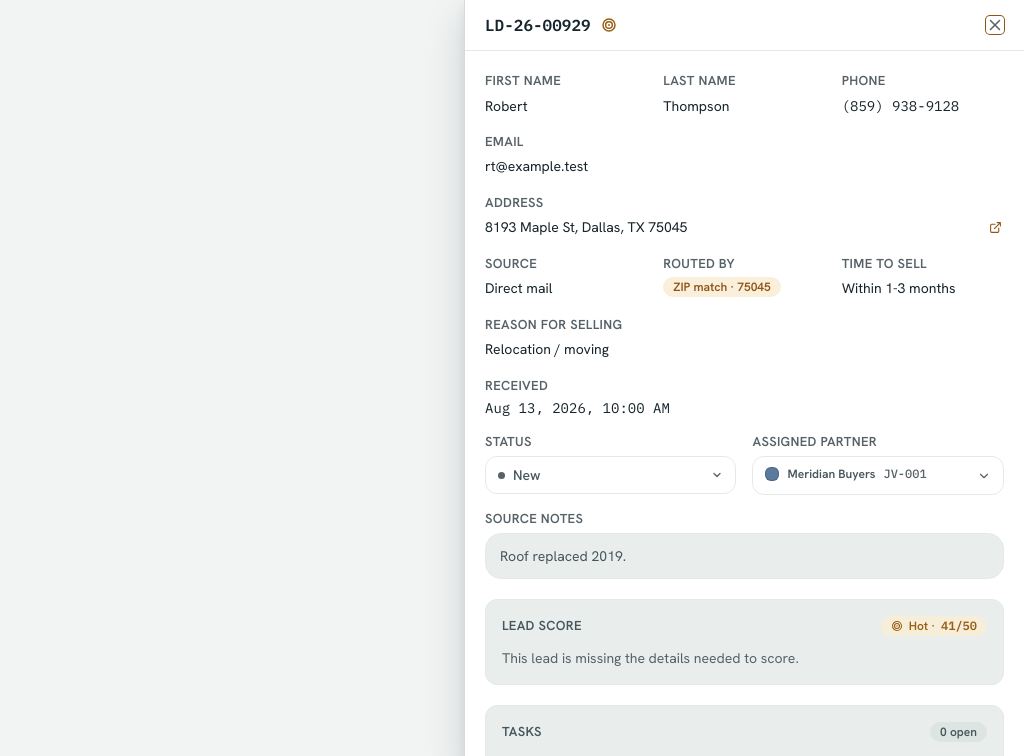
Test: N5-11: optimistic paint, rollback, and the retry toast › N5-11: a failed save rolls the value back and toasts 'Couldn't save <Field>'
The width and height of the screenshot is (1024, 756).
Click the button named "Phone:".
click(912, 106)  # box [842,94,983,118]
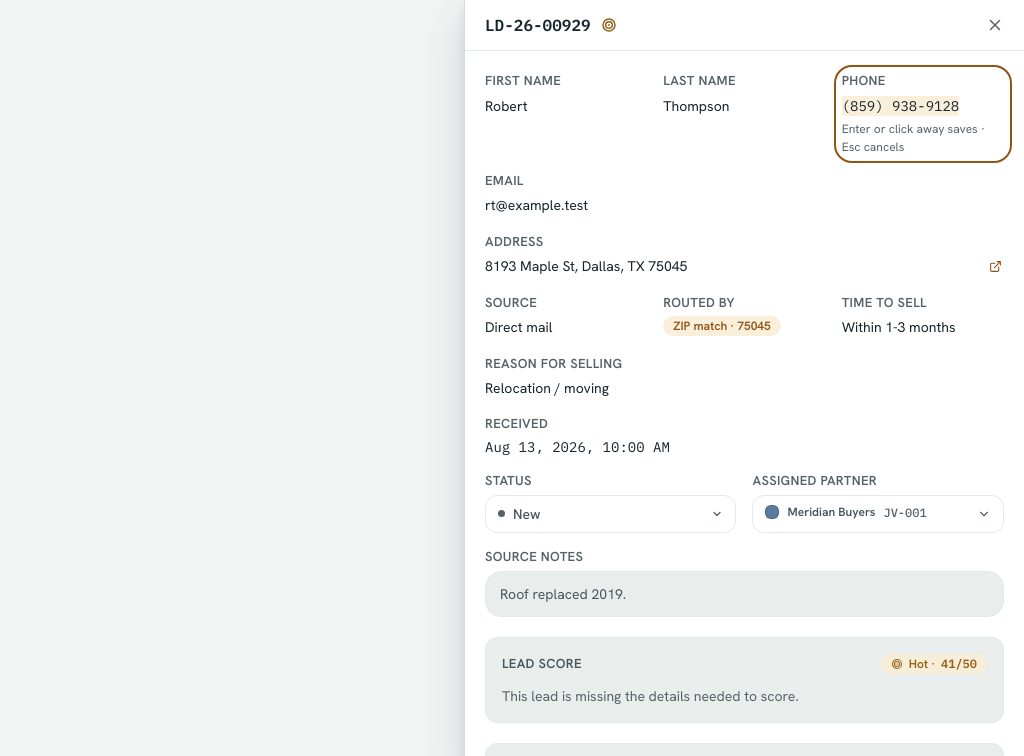
Type keys "(918) 555-0170"
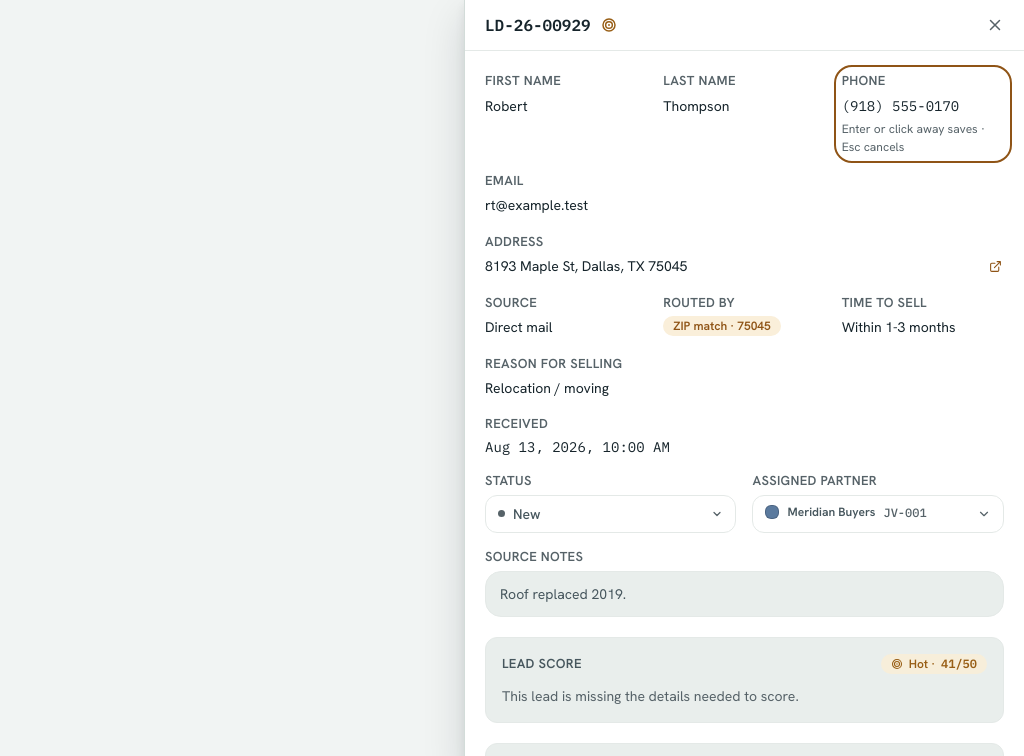
Press Enter
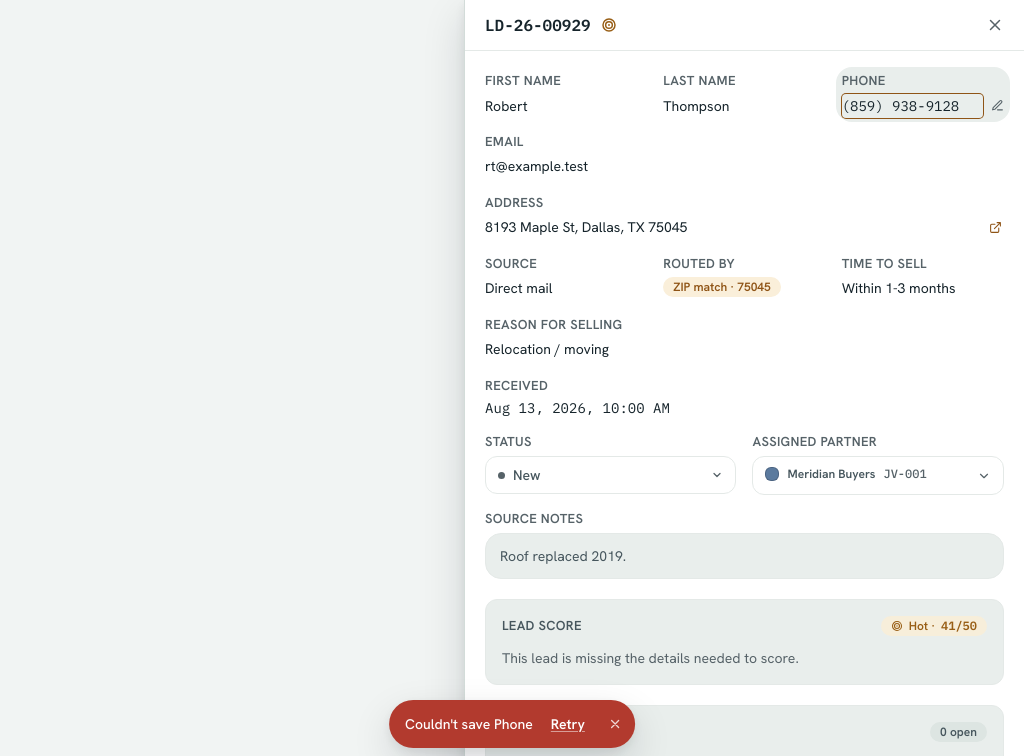
Expected: the text "(918) 555-0170" is not shown
Now the text "Couldn't save Phone" is shown, box [405,714,533,734]
Now the text "(859) 938-9128" is shown, box [842,96,959,114]
